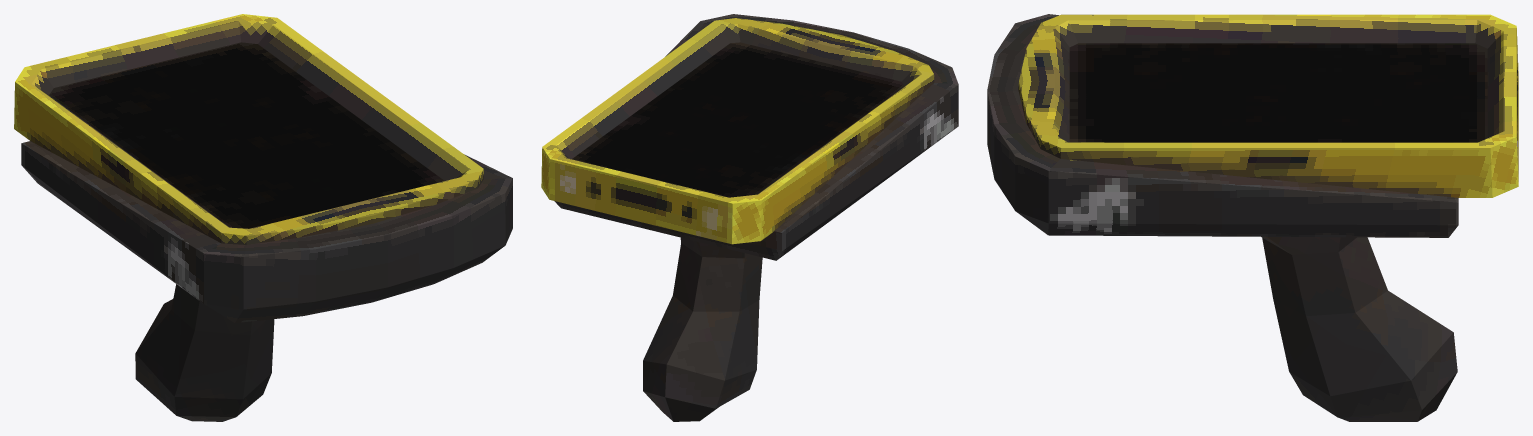
Rendered from item_prop_scanner.glb.
3 renders of one model, left to right at view 1: azimuth 30°, elevation 25°; view 2: azimuth 150°, elevation 25°; view 3: azimuth 270°, elevation 25°, orthographic. The views are drawn at different scales.
Visible parts, largest first — view 1: SM_ScannerGun_01; view 2: SM_ScannerGun_01; view 3: SM_ScannerGun_01.
Part boxes in pixels (box(x1,y1,x2,y2)): SM_ScannerGun_01: box(14, 14, 512, 421); SM_ScannerGun_01: box(541, 14, 958, 421); SM_ScannerGun_01: box(987, 14, 1518, 421).
Size of the model in its own units: 0.1624 by 0.1589 by 0.2323.
1 material, 1 textured.
